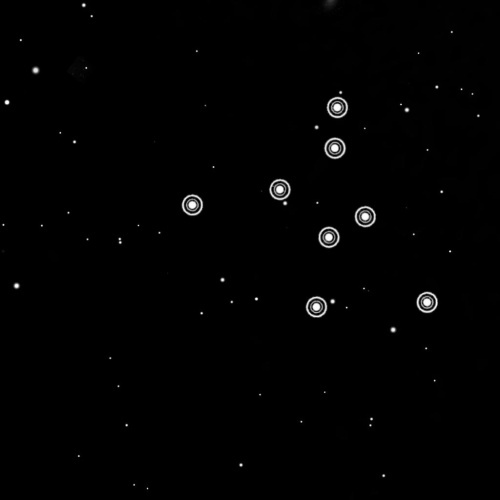hercules: (173, 91, 443, 324)
